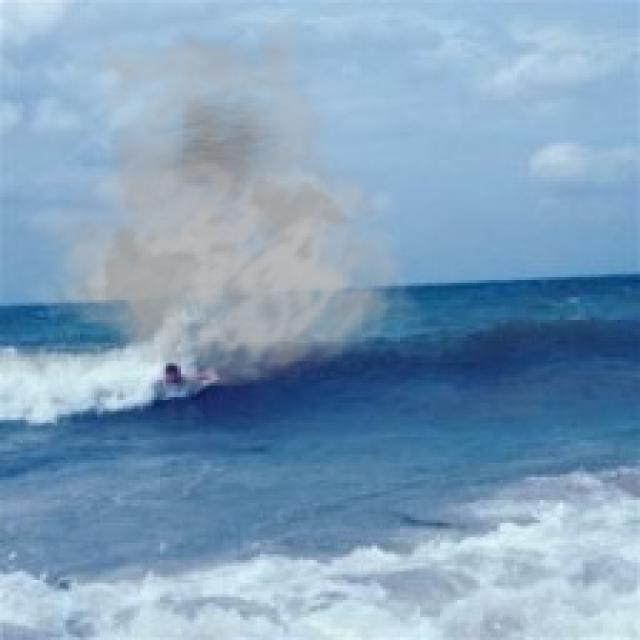smoke: (20, 3, 420, 388)
